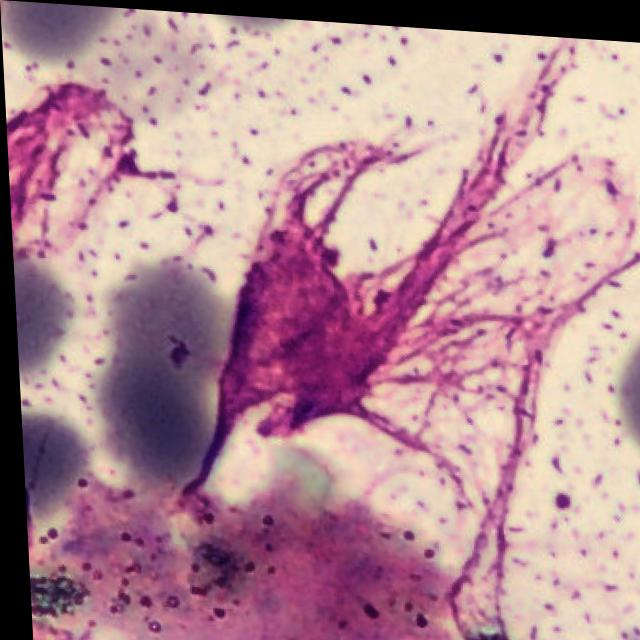Artefato: (175, 136, 495, 502)
